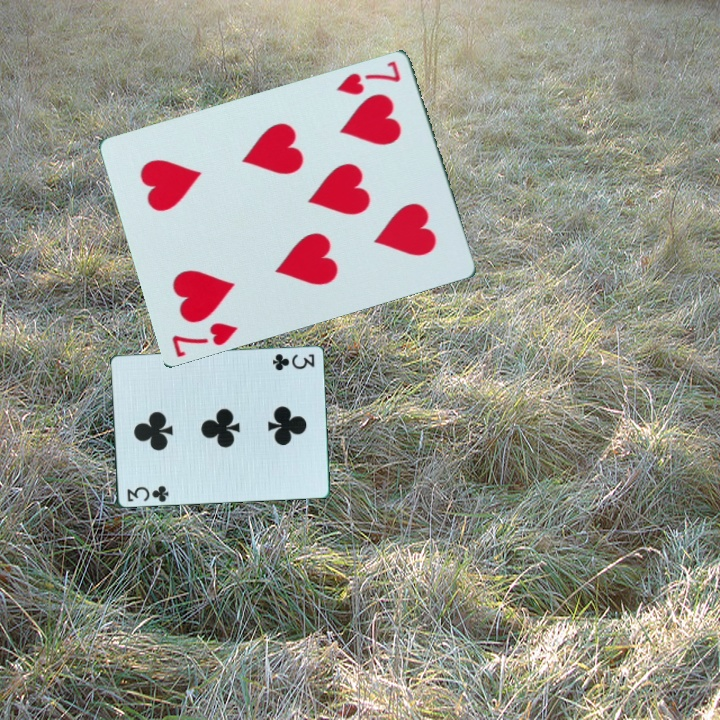3c: (123, 482, 171, 505), (269, 350, 317, 369)
7h: (168, 318, 241, 360), (333, 56, 404, 98)
